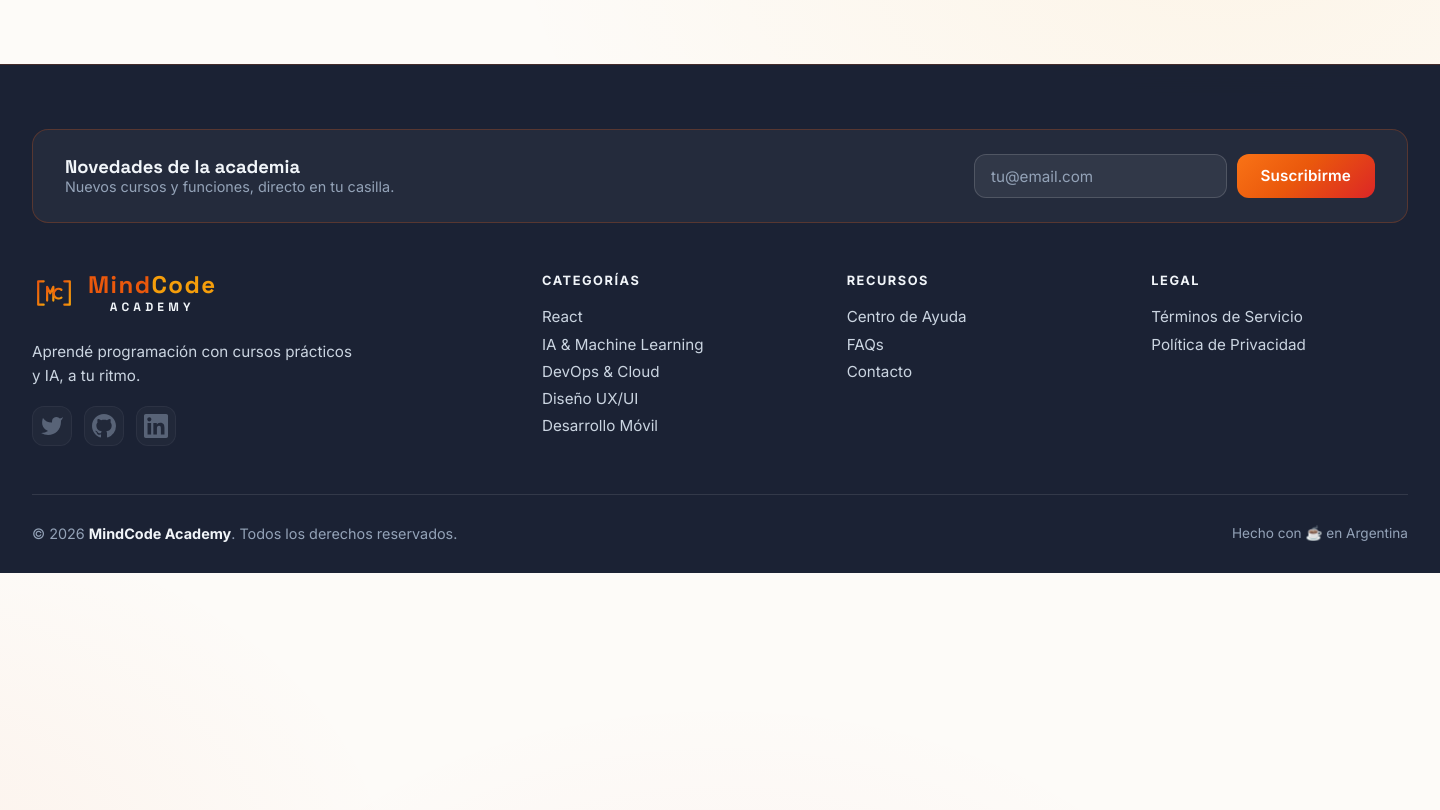
Footer newsletter (demo wiring) › clears the error once the user edits the input again
The width and height of the screenshot is (1440, 810).
In the field labelled "email": (1100, 176) x1=974 y1=154 x2=1227 y2=198, type "nope"
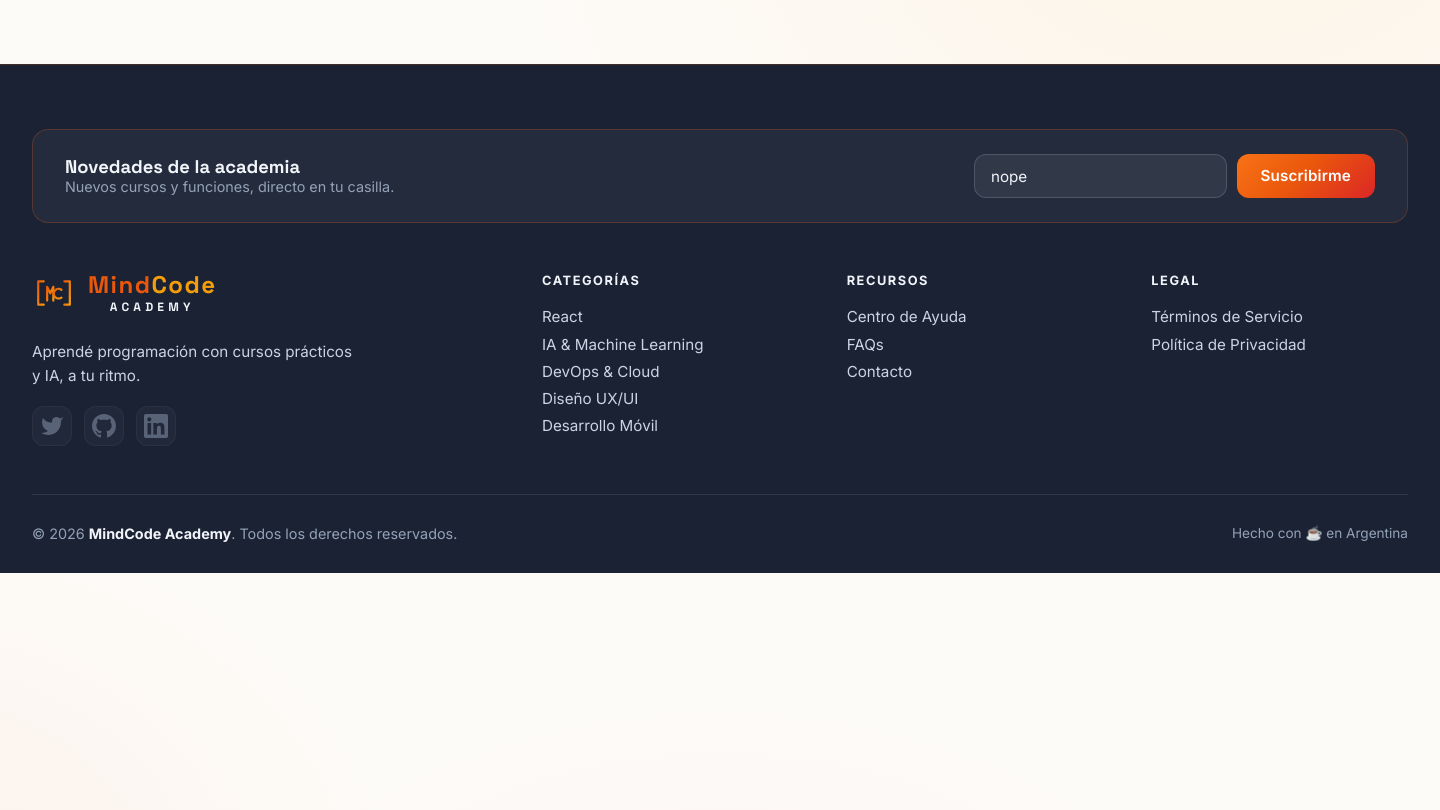
Submit the form named "Email", box x1=974 y1=154 x2=1375 y2=198
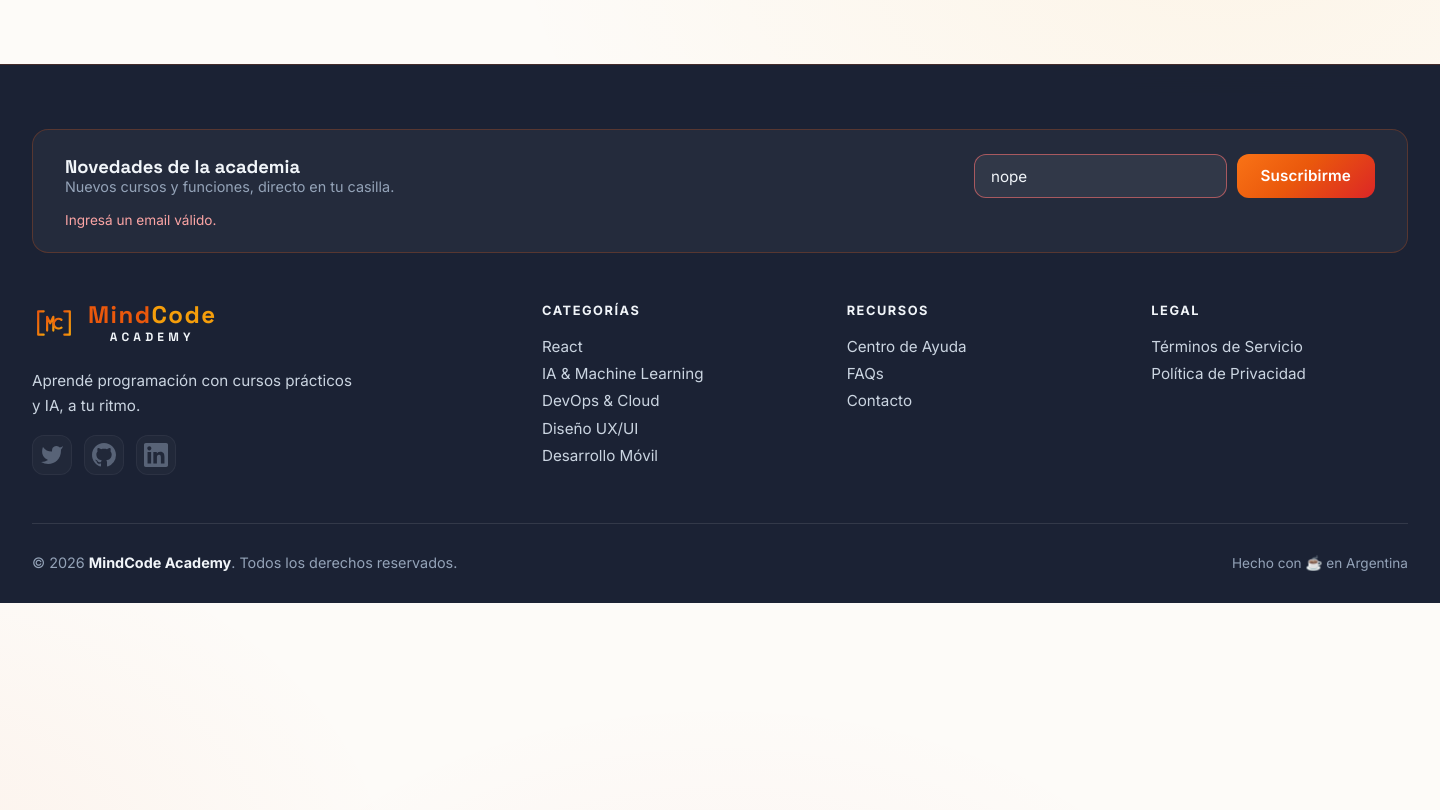
Now the message "Ingresá un email válido." is shown, box x1=65 y1=212 x2=216 y2=228
Replace the text in the field named "email" with "a": (1100, 176) x1=974 y1=154 x2=1227 y2=198
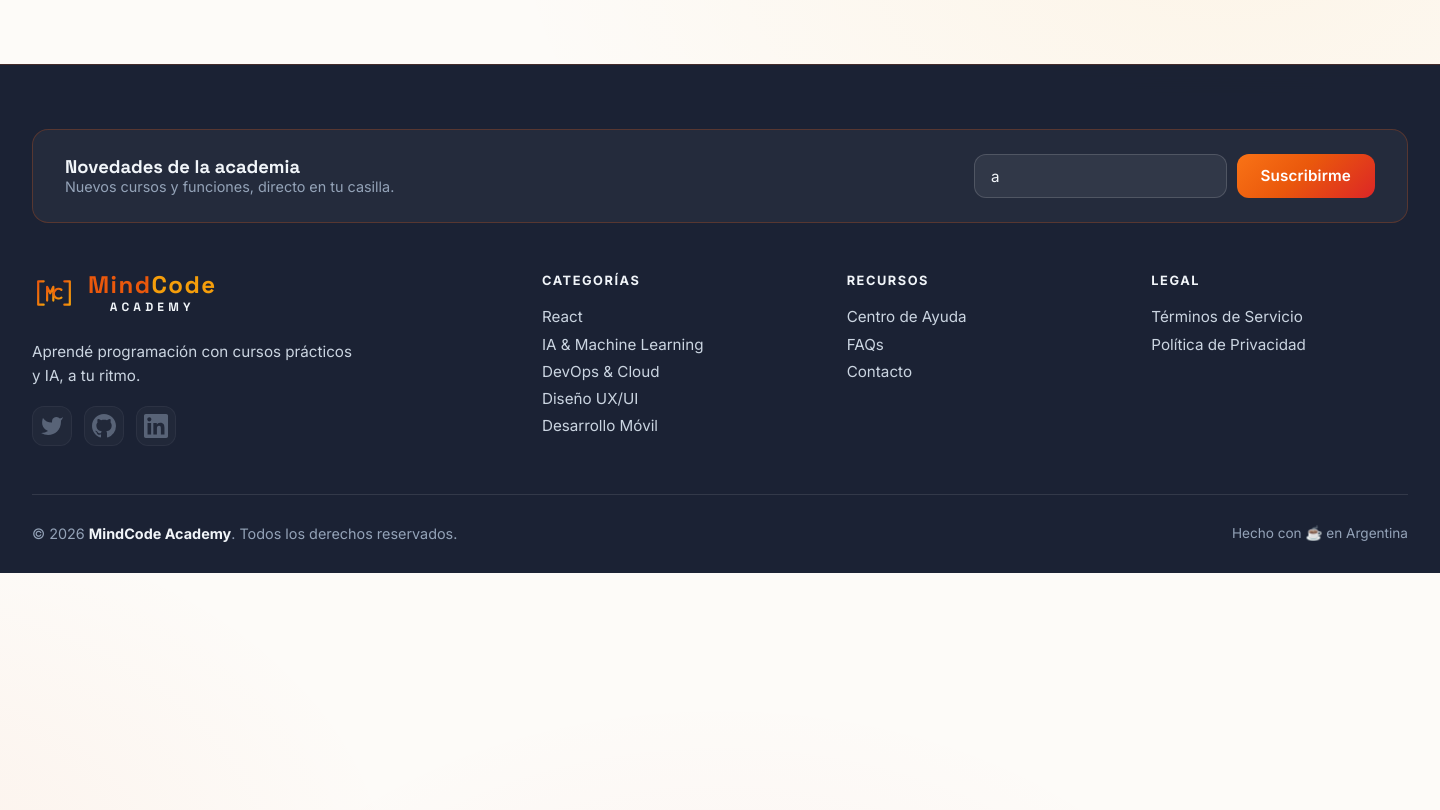
Now the message "Ingresá un email válido." is gone
